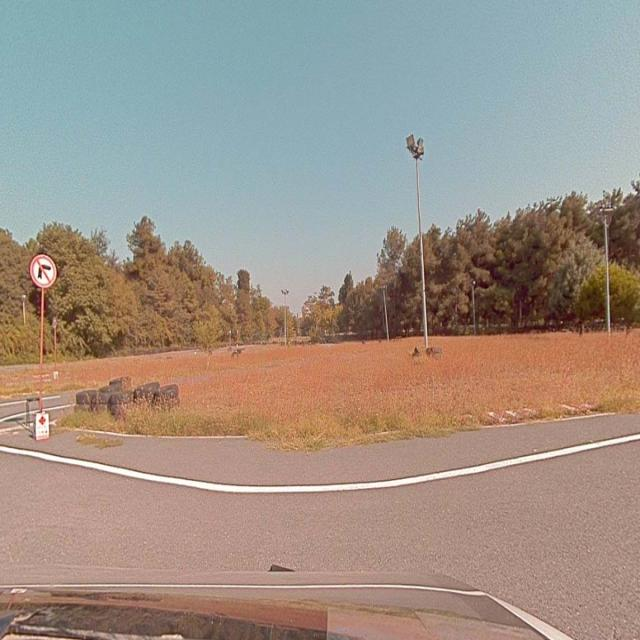sagadonulmez: (30, 253, 57, 290)
